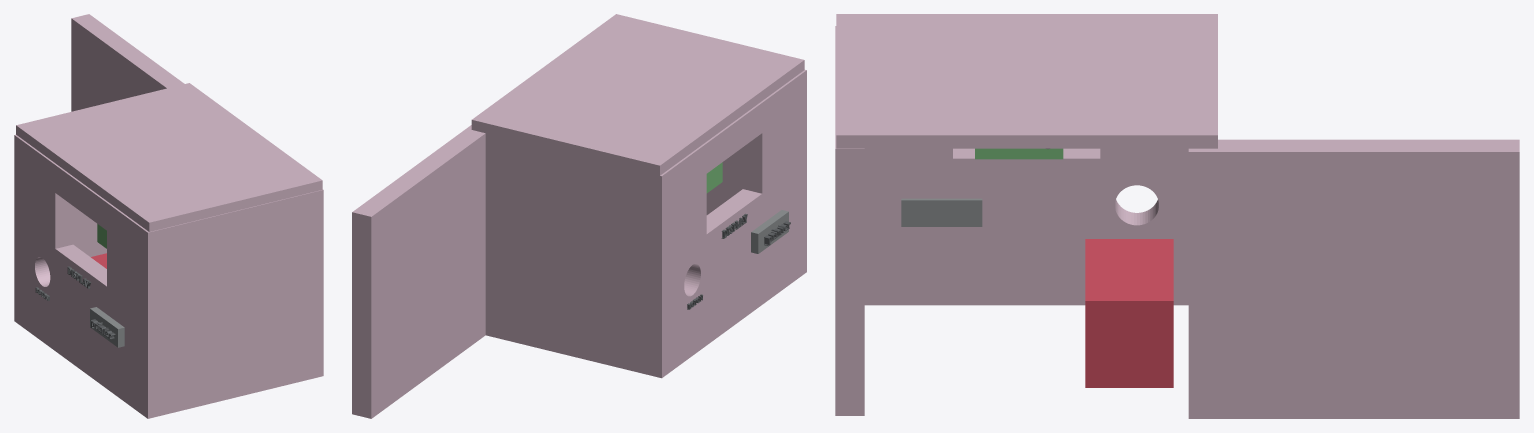
Rendered from PHOTOBOTH.glb.
3 renders of one model, left to right at view 1: azimuth 30°, elevation 25°; view 2: azimuth 150°, elevation 25°; view 3: azimuth 270°, elevation 25°, orthographic. The views are drawn at different scales.
Visible parts, largest first — view 1: Mesh_Mesh_head_geo.001_lambert2SG.001; view 2: Mesh_Mesh_head_geo.001_lambert2SG.001; view 3: Mesh_Mesh_head_geo.001_lambert2SG.001.
Boxes of the visible parts, bbox=[...] form: Mesh_Mesh_head_geo.001_lambert2SG.001: bbox=[14, 14, 323, 418]; Mesh_Mesh_head_geo.001_lambert2SG.001: bbox=[352, 14, 806, 418]; Mesh_Mesh_head_geo.001_lambert2SG.001: bbox=[835, 14, 1519, 418].
Bounding box in the file's own units: 0.043 × 0.042 × 0.093.
